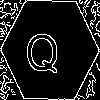Q: (25, 24, 60, 74)
